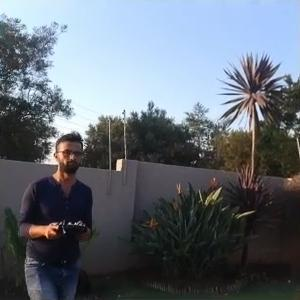follow: (14, 123, 96, 298)
